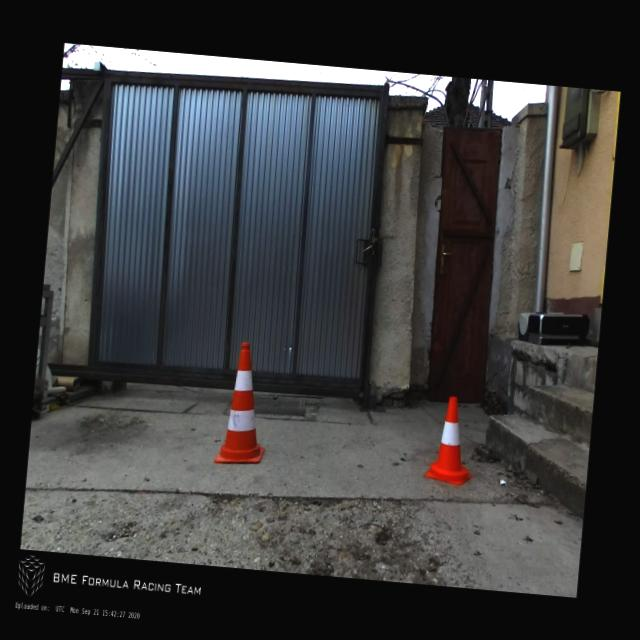large_orange_cone: (214, 340, 274, 468)
orange_cone: (424, 394, 478, 486)
